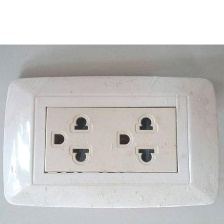three_eye_plug: (0, 70, 221, 209)
